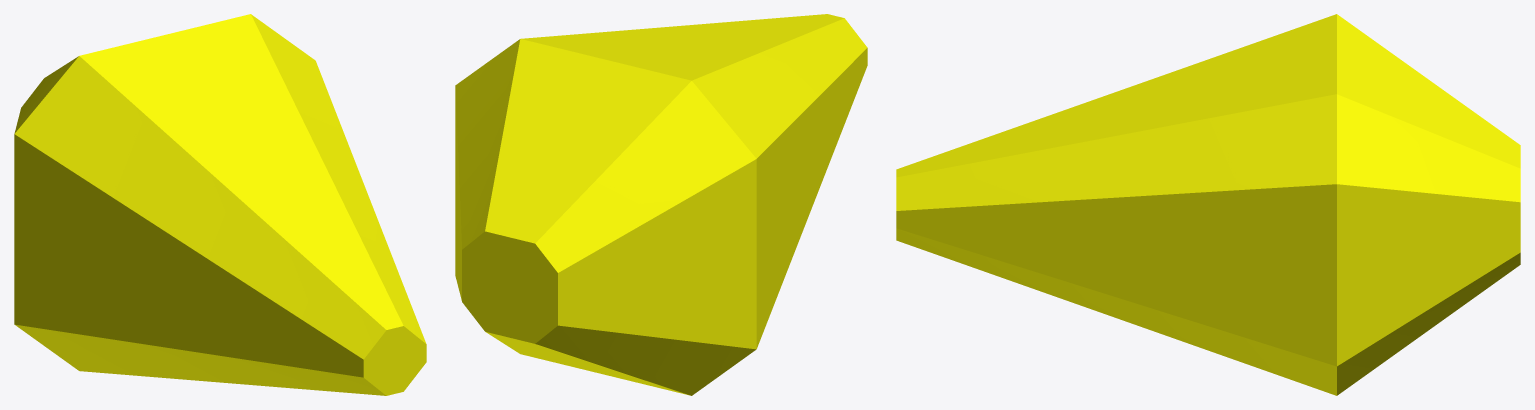
The model's file is ice_bolt.glb.
The picture shows the model from 3 angles, left to right: view 1: azimuth 30°, elevation 25°; view 2: azimuth 150°, elevation 25°; view 3: azimuth 270°, elevation 25°; orthographic projection. The views are drawn at different scales.
Parts seen in each view (by area): view 1: ice_bolt; view 2: ice_bolt; view 3: ice_bolt.
Boxes of the visible parts, <box> form: ice_bolt: <box>14,14,426,395</box>; ice_bolt: <box>455,14,867,395</box>; ice_bolt: <box>896,14,1520,395</box>.
Size of the model in its own units: 0.1508 by 0.1508 by 0.2827.
Materials: 1 (1 with a texture image).
